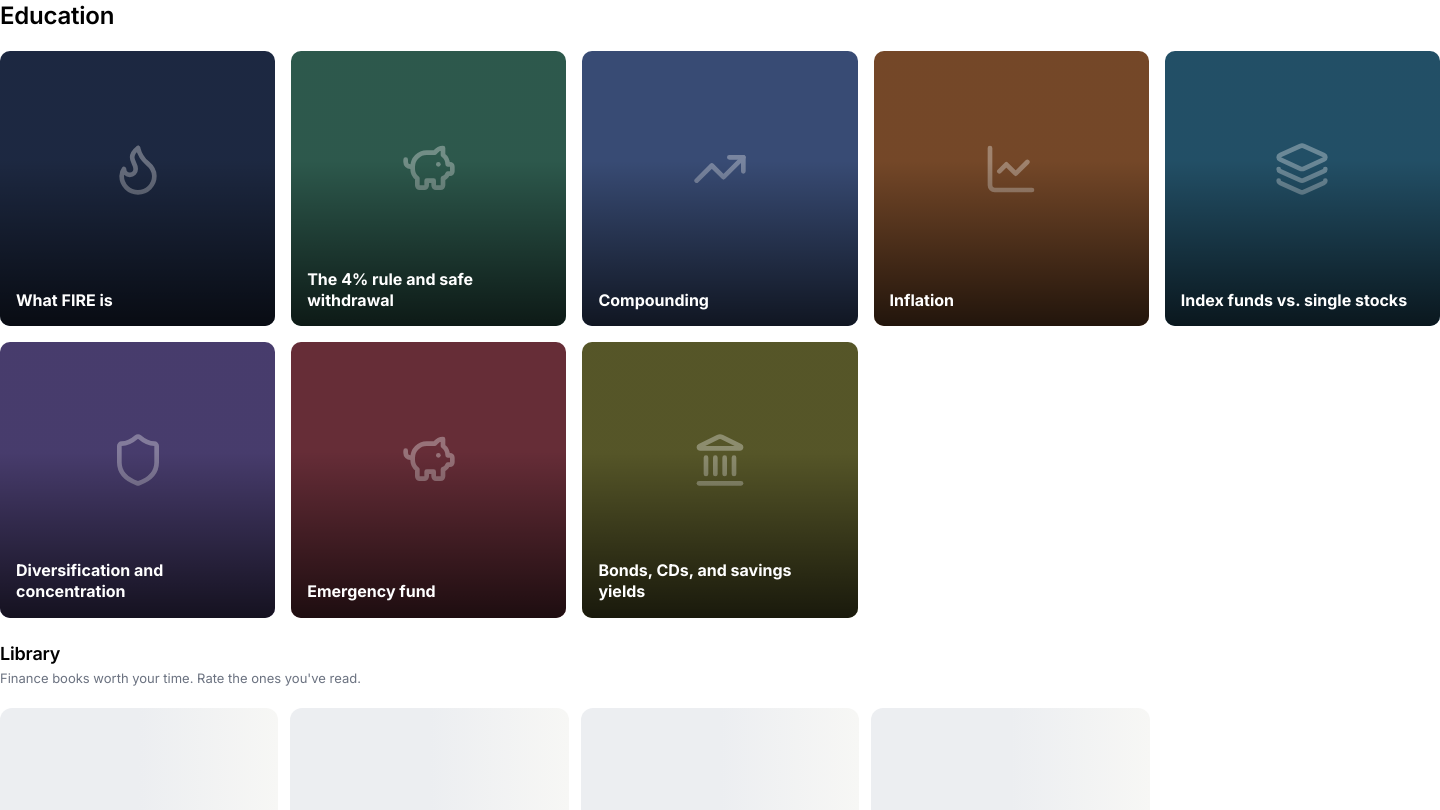
EducationPage › opens a lesson with its points and reading links in a new tab
This screenshot has width=1440, height=810.
Click the button "Diversification and concentration" at (138, 480), box [0,342,275,618]
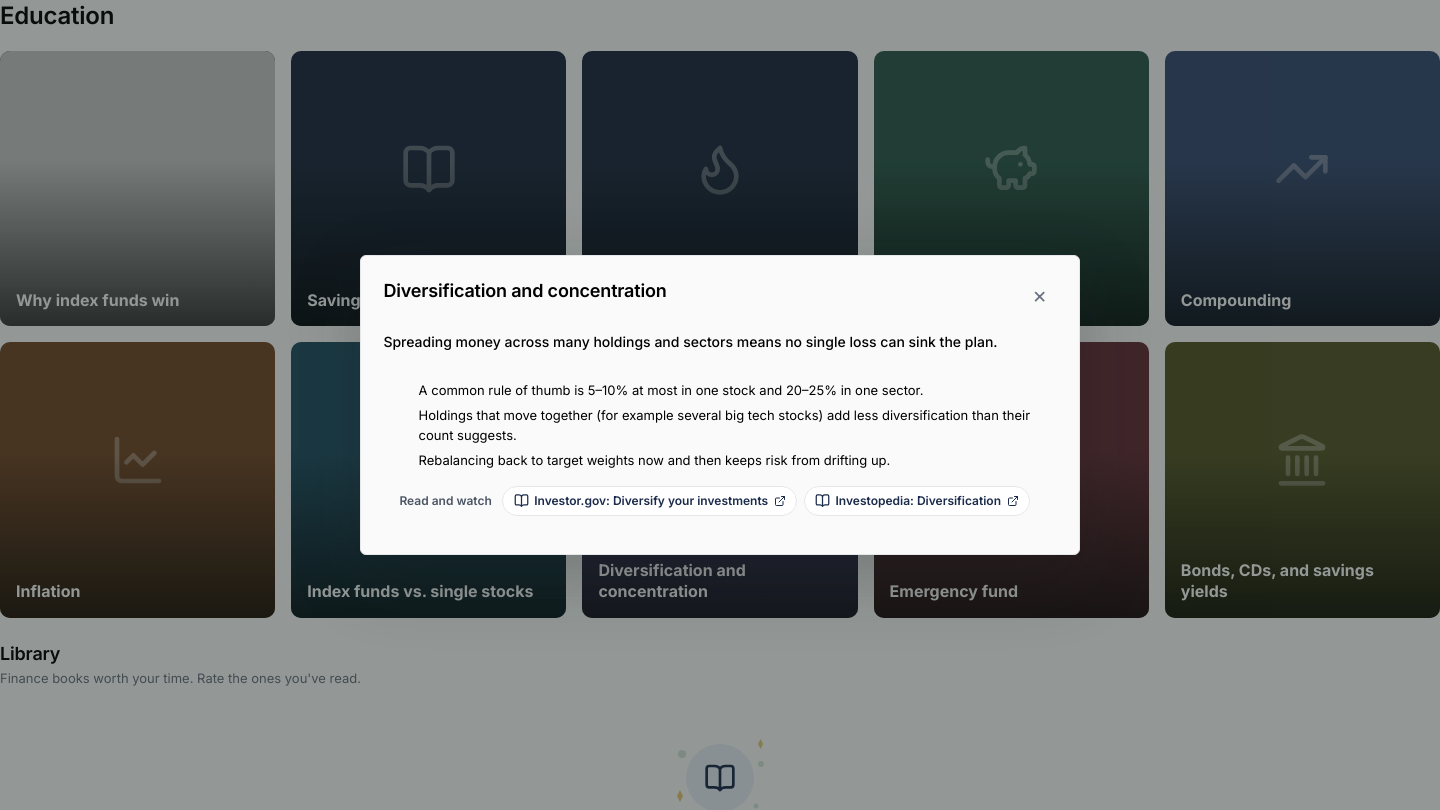
Result: the dialog "Diversification and concentration" shows "5–10% at most in one stock" at [419,382,924,398]
